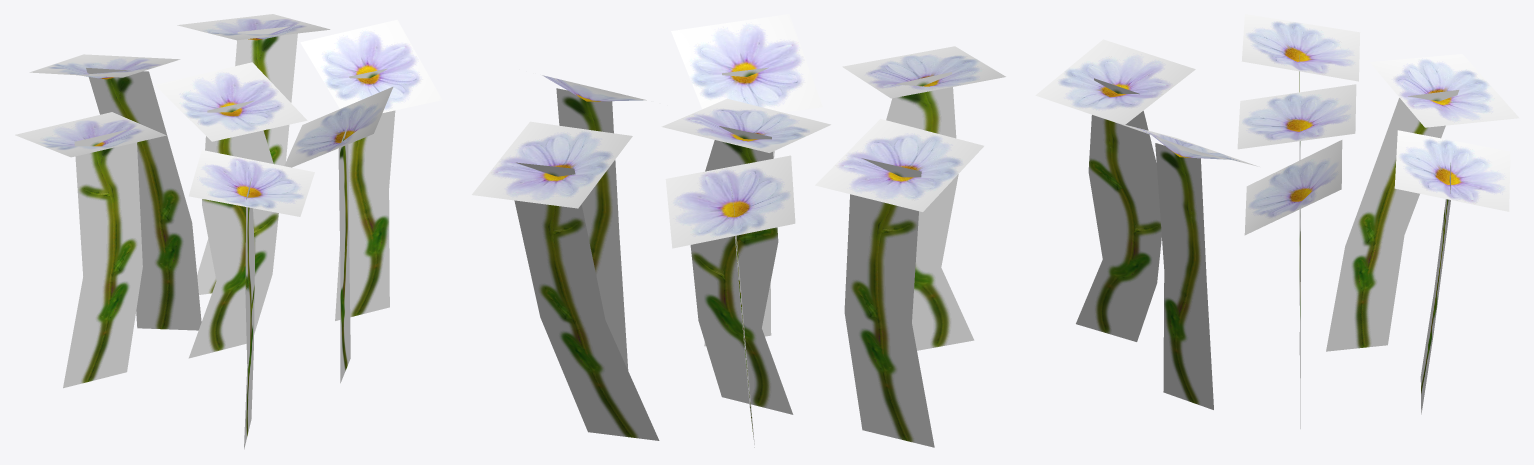
The model's file is Camomille_Geo.fbx.
The picture shows the model from 3 angles, left to right: view 1: azimuth 30°, elevation 25°; view 2: azimuth 150°, elevation 25°; view 3: azimuth 270°, elevation 25°; orthographic projection. The views are drawn at different scales.
Visible parts, largest first — view 1: polySurface8, polySurface9, polySurface10, polySurface11, polySurface12, polySurface14, polySurface13; view 2: polySurface8, polySurface14, polySurface9, polySurface12, polySurface13, polySurface11, polySurface10; view 3: polySurface12, polySurface11, polySurface13, polySurface14, polySurface9, polySurface8, polySurface10.
Part boxes in pixels (bbox=[...]): polySurface8: bbox=[15, 112, 166, 388]; polySurface9: bbox=[155, 62, 307, 358]; polySurface10: bbox=[300, 19, 442, 320]; polySurface11: bbox=[29, 54, 201, 330]; polySurface12: bbox=[189, 150, 314, 449]; polySurface14: bbox=[177, 14, 330, 294]; polySurface13: bbox=[284, 87, 393, 383]; polySurface8: bbox=[815, 119, 983, 447]; polySurface14: bbox=[472, 121, 659, 440]; polySurface9: bbox=[661, 98, 830, 414]; polySurface12: bbox=[842, 46, 1005, 350]; polySurface13: bbox=[671, 14, 822, 346]; polySurface11: bbox=[665, 155, 795, 447]; polySurface10: bbox=[542, 75, 646, 370]; polySurface12: bbox=[1035, 39, 1195, 341]; polySurface11: bbox=[1326, 54, 1519, 351]; polySurface13: bbox=[1114, 122, 1259, 409]; polySurface14: bbox=[1394, 130, 1510, 414]; polySurface9: bbox=[1237, 84, 1356, 377]; polySurface8: bbox=[1241, 14, 1360, 305]; polySurface10: bbox=[1244, 140, 1342, 428].
Bounding box in the file's own units: 26.41 × 18.33 × 28.68.
